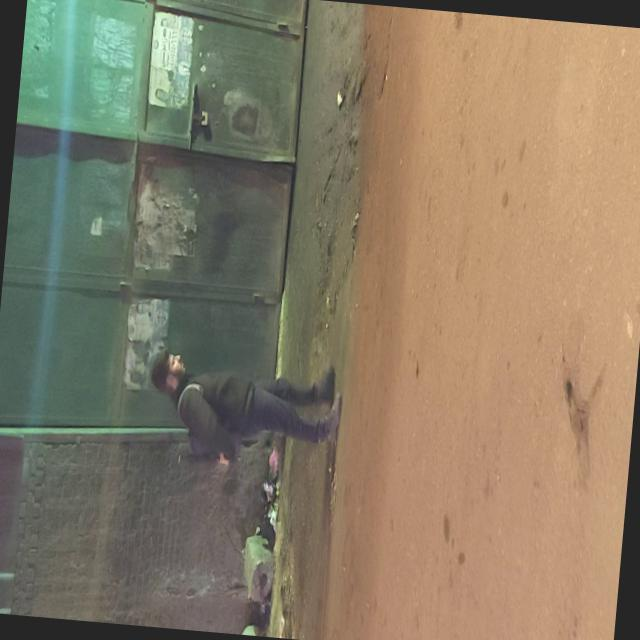long weapon: (167, 430, 244, 473)
